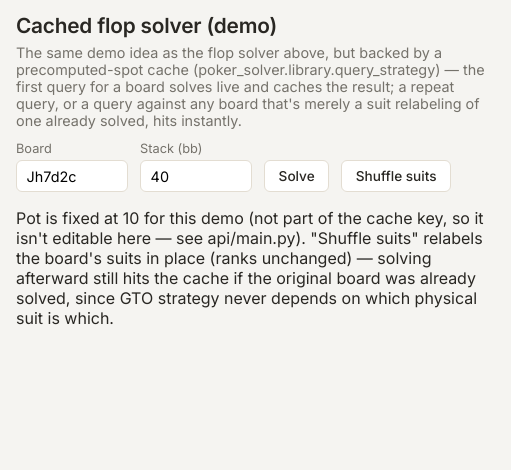
CachedFlopSolver › shows a "Solved live" indicator when hit is false
The width and height of the screenshot is (511, 470).
Click the button "Solve". click: (297, 176)
box: [264,160,329,192]
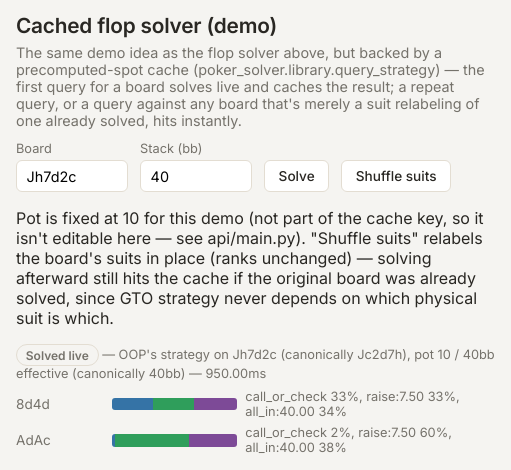
Check: the text "Solved live" is shown, box [16,344,99,366]
